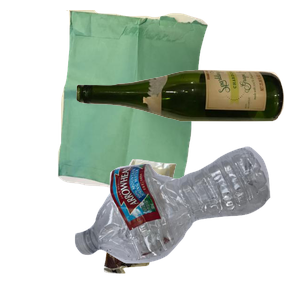glass: (74, 67, 300, 181)
paper: (55, 10, 255, 190)
plastic: (72, 144, 300, 300)
trash: (101, 157, 270, 300)
